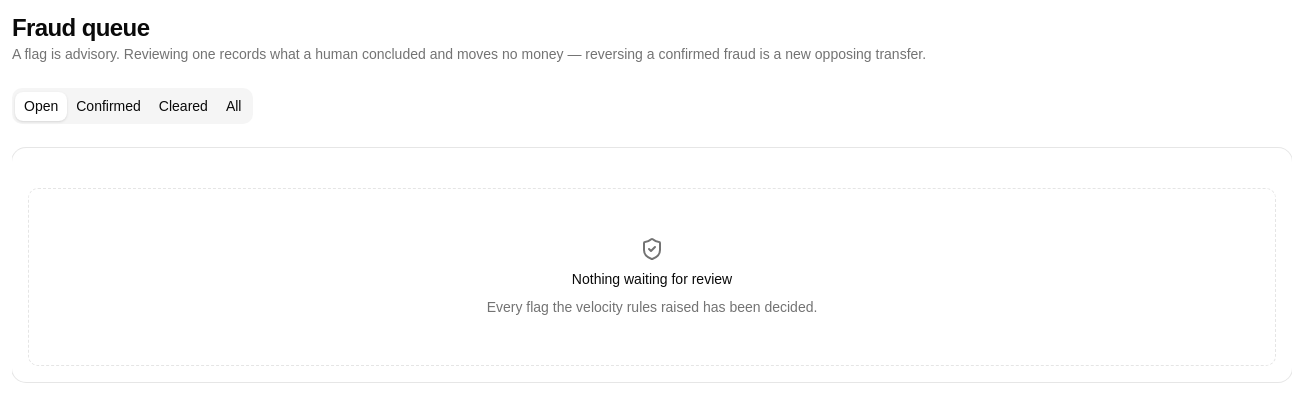
Test: the queue › offers no decision buttons on a flag that is already decided
Click the tab "All" at (234, 106), box [217,92,250,120]
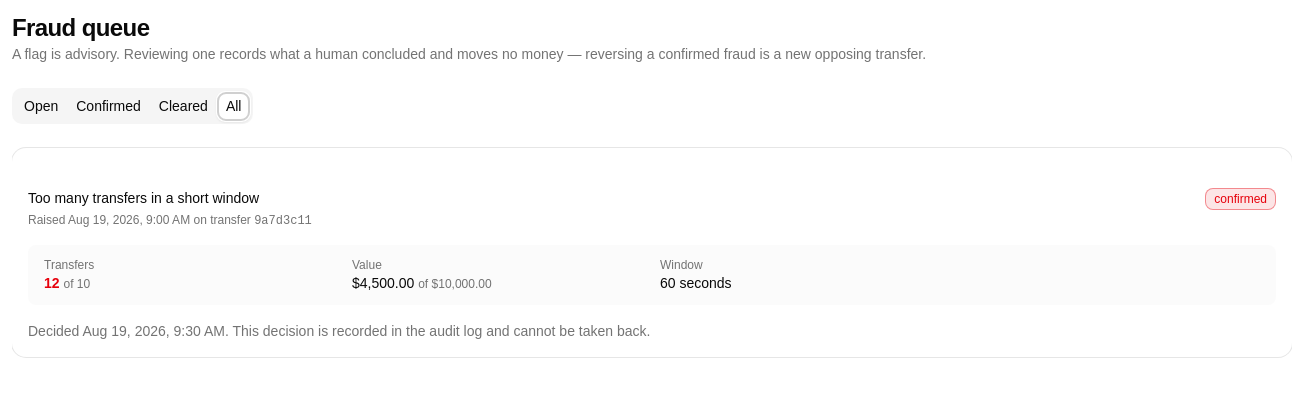
expect the text "cannot be taken back" is shown: met, box [225,323,650,339]
